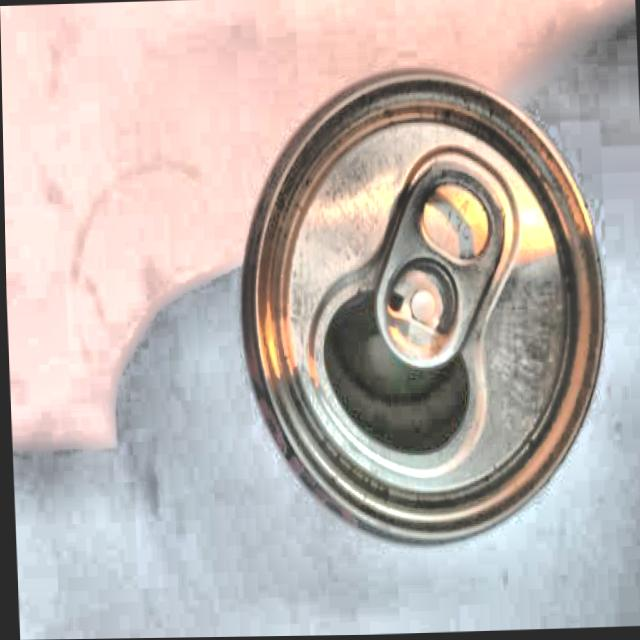Cans: (245, 60, 601, 543)
